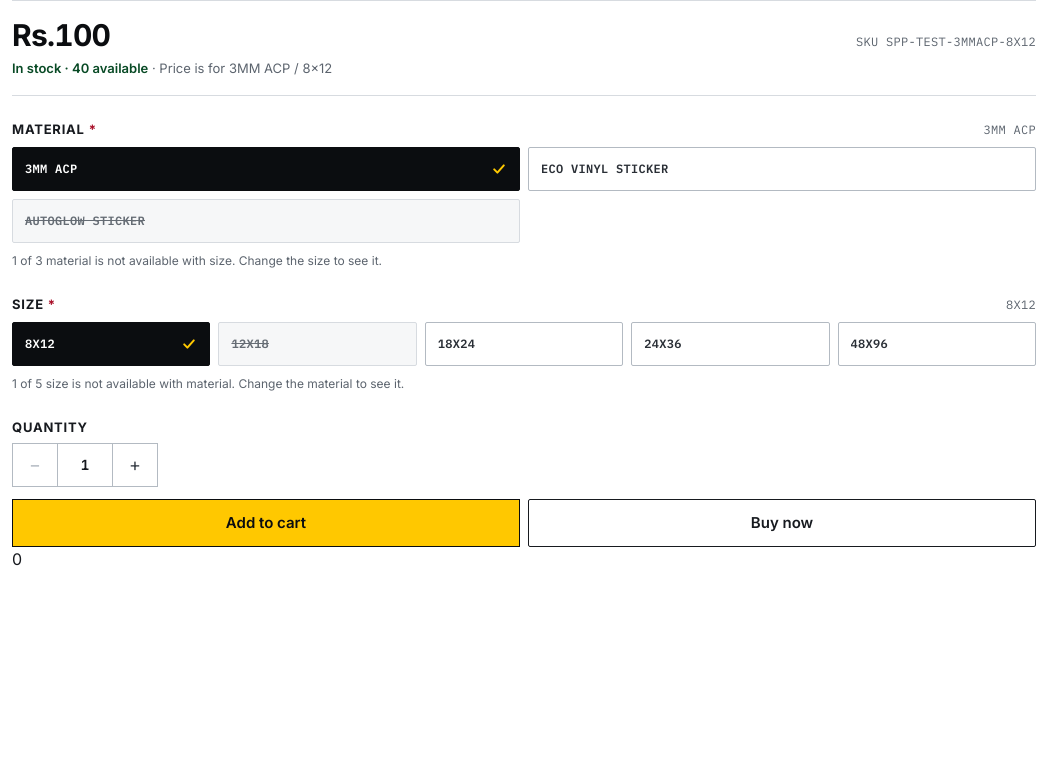
Scenario: VariantSelector - quantity stepper › increments and decrements
Click the button named "Increase quantity" at coordinates (135, 465), box [113,444,157,486]
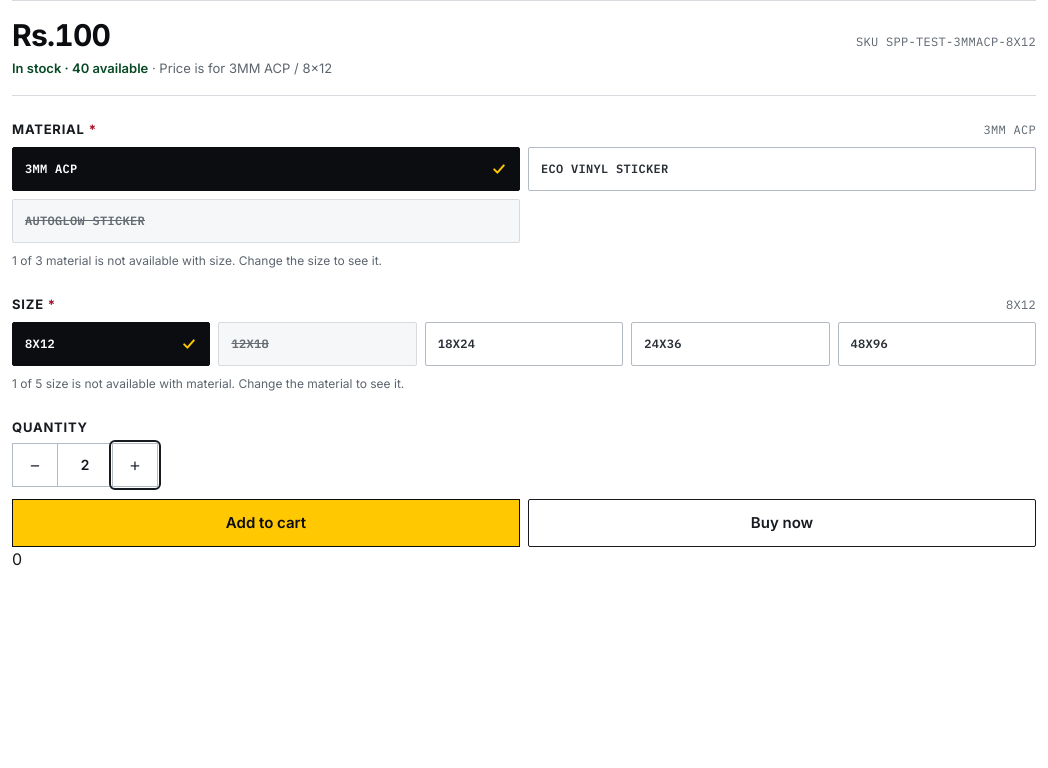
Now the number field labelled "Quantity" holds "2", box [57,444,113,486]
Click the button named "Decrease quantity" at coordinates (35, 465), box [13,444,57,486]
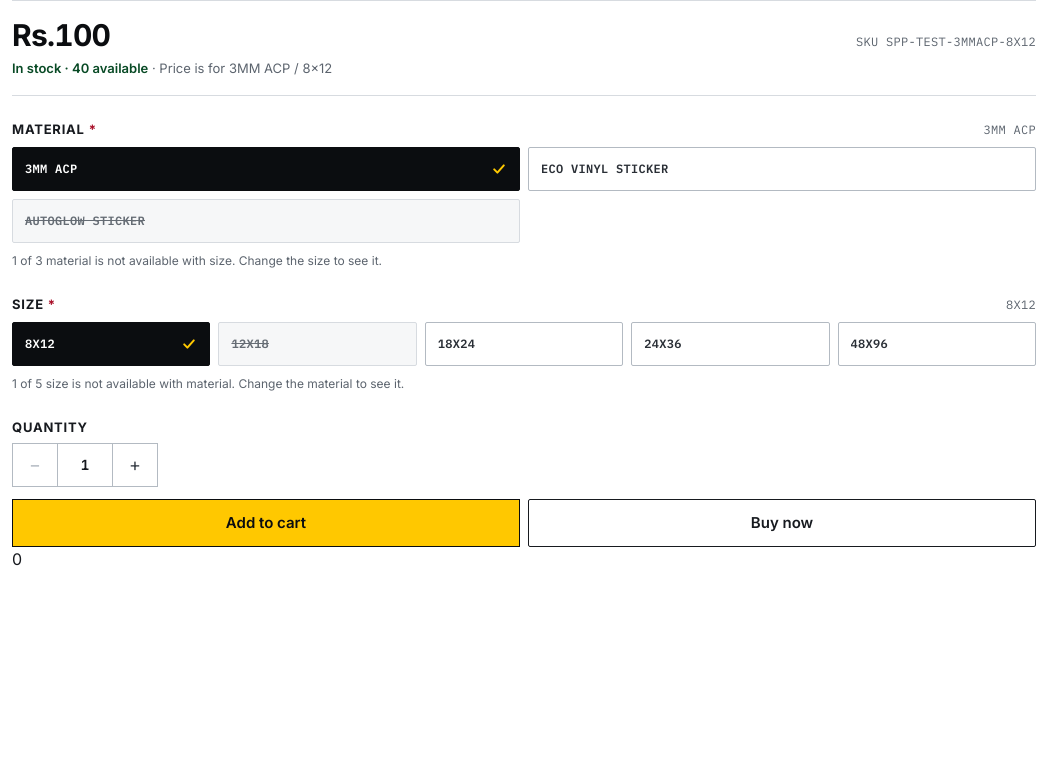
Now the number field labelled "Quantity" holds "1", box [57,444,113,486]
